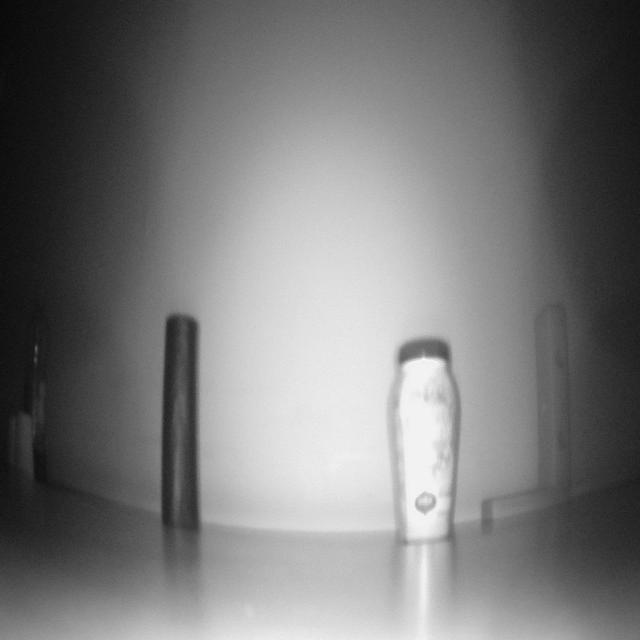targets: (480, 301, 572, 523), (385, 340, 462, 546), (160, 314, 198, 531), (25, 287, 50, 468), (8, 412, 36, 476)
